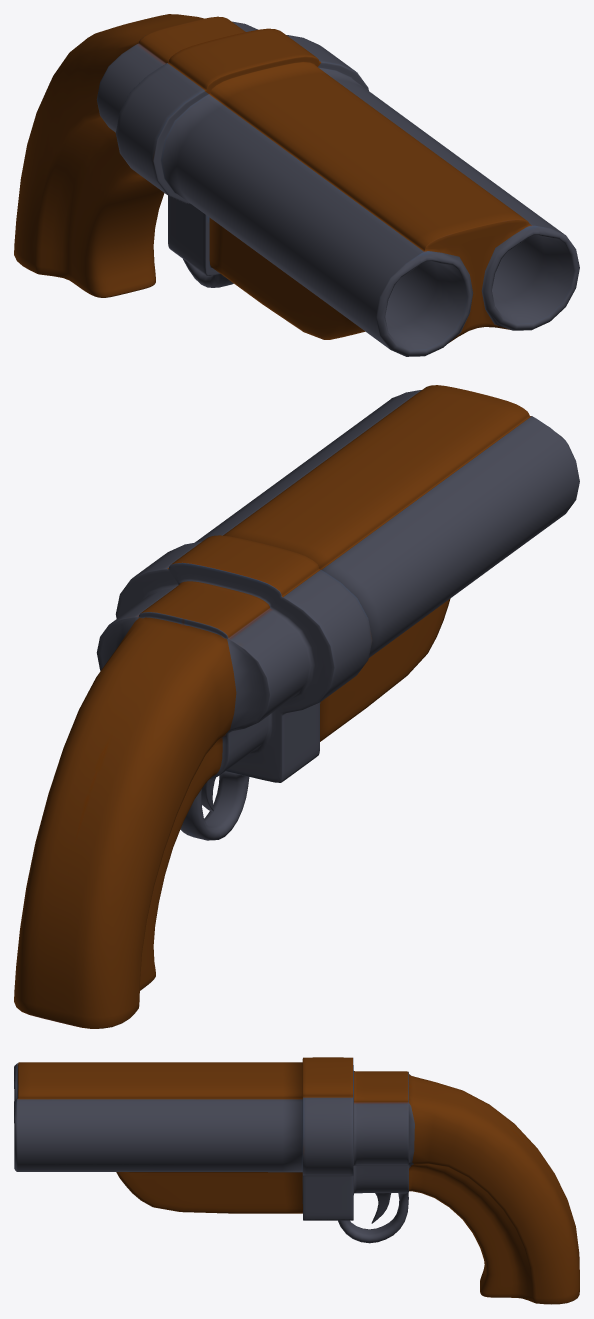
Rendered from Shotgun.fbx.
The picture shows the model from 3 angles, top to bottom: view 1: azimuth 30°, elevation 25°; view 2: azimuth 150°, elevation 25°; view 3: azimuth 270°, elevation 25°; orthographic projection. The views are drawn at different scales.
Visible parts, largest first — view 1: Shotgun; view 2: Shotgun; view 3: Shotgun.
Part boxes in pixels (x1,y1,x2,y2): Shotgun: [14, 14, 579, 356]; Shotgun: [14, 385, 579, 1028]; Shotgun: [14, 1057, 579, 1304].
Bounding box in the file's own units: 54.19 × 77.15 × 182.
